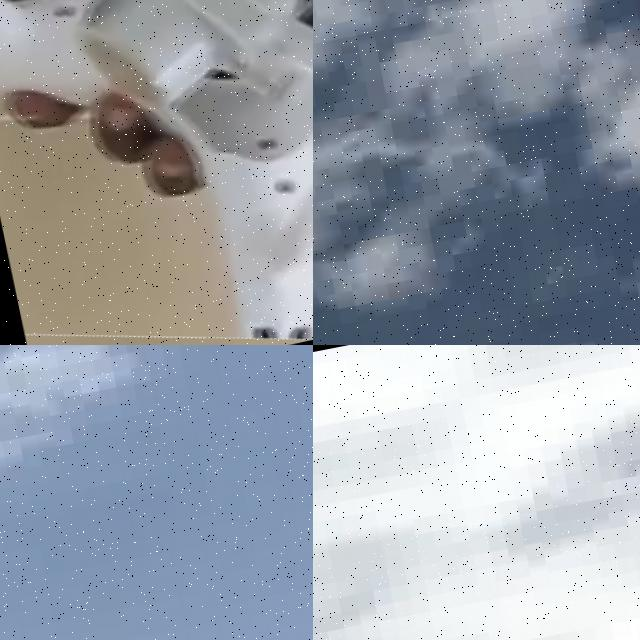drone: (0, 0, 313, 345)
